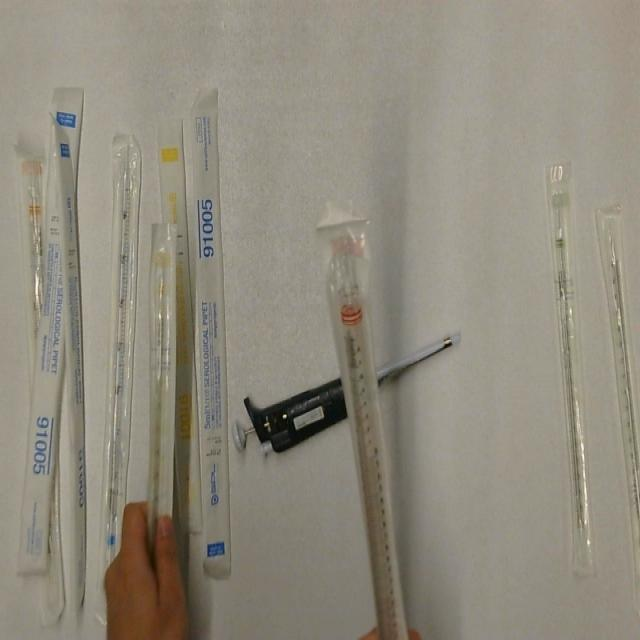Serelogical Pipet 1 mL - Sealed: (156, 114, 204, 536), (140, 216, 179, 536)
Serelogical Pipet 10 mL - Sealed: (15, 145, 62, 389)
Serelogical Pipet 2 mL - Sealed: (542, 159, 600, 583)
Serelogical Pipet 25 mL - Sealed: (317, 215, 412, 640)
Serelogical Pipet 5 mL - Sealed: (15, 82, 90, 579), (190, 86, 239, 584), (94, 130, 145, 600), (47, 109, 92, 617)
Single Channel Pipettor: (229, 323, 465, 463)
